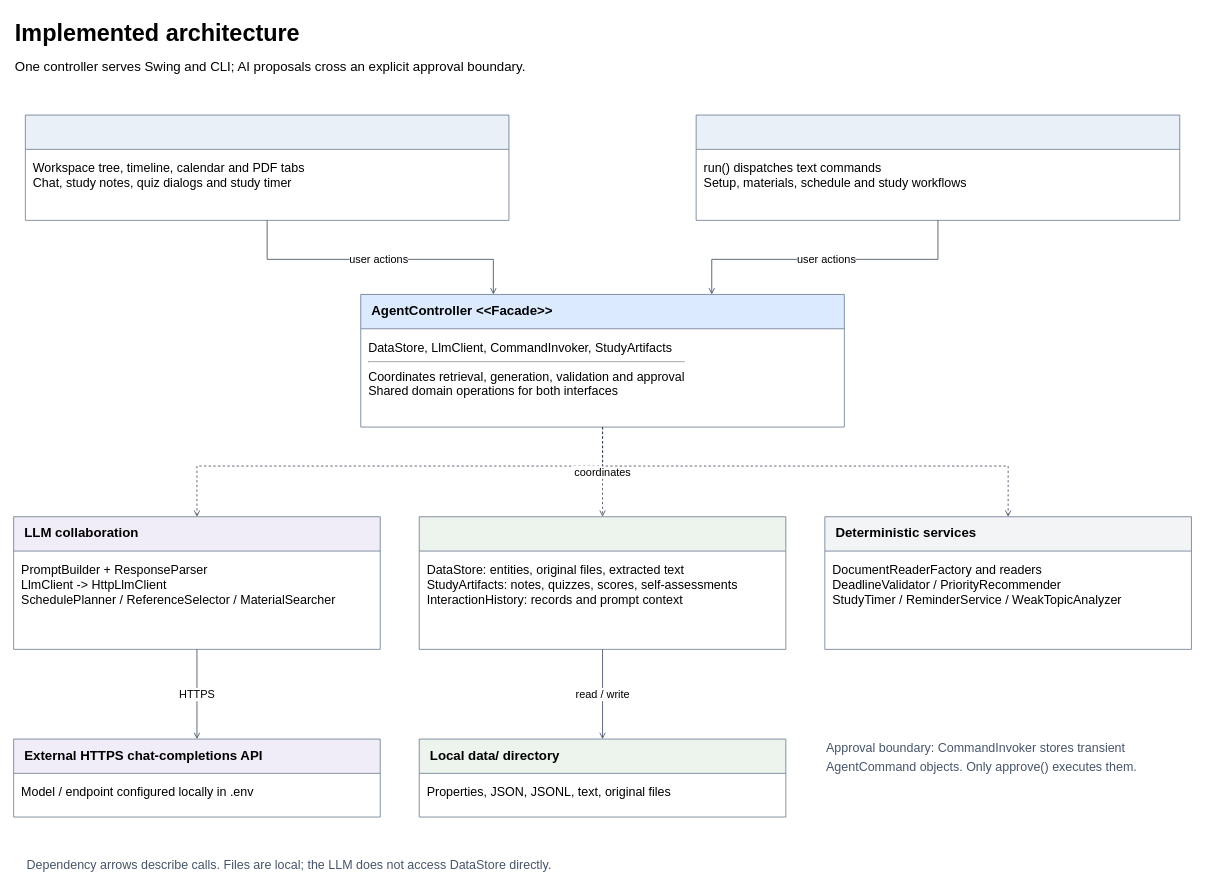
This 1209x885 diagram has some shape labels left out. The shapes that lost their labels are listed below. From the top down, each one's box as (x1, y1, x2, y2) in pixels, then its label:
(25, 114, 509, 220): MainWindow + Swing components
(695, 114, 1180, 220): CommandLineInterface
(418, 516, 786, 649): Local state and history
